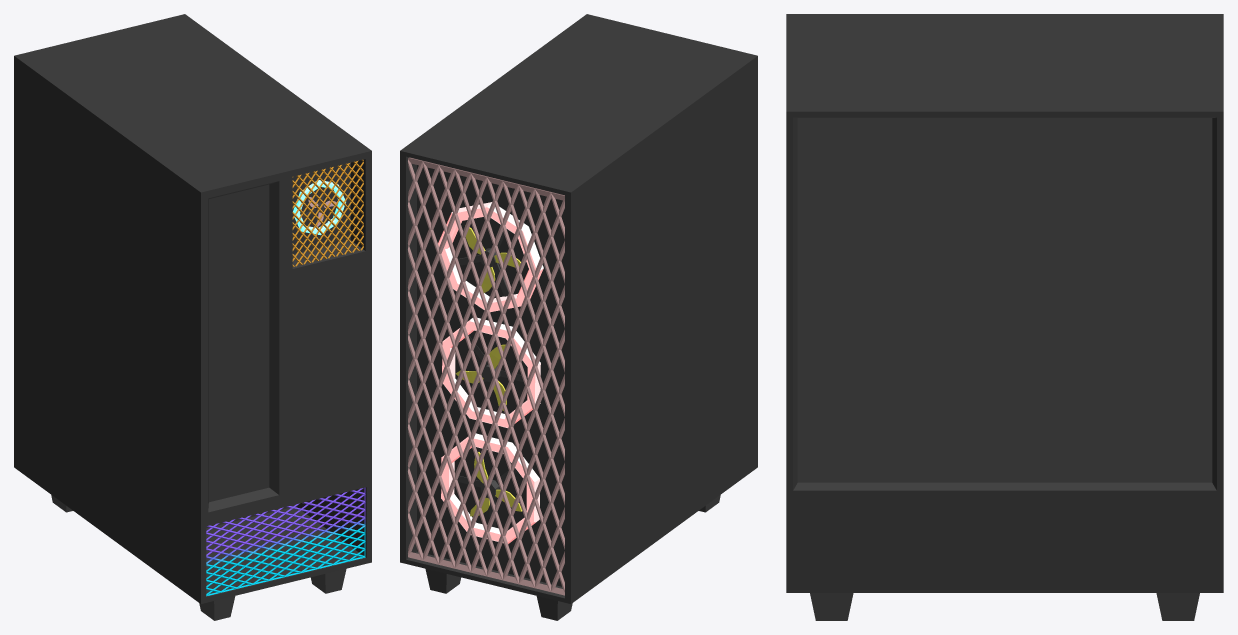
File: CPU 1.fbx
3 renders of one model, left to right at view 1: azimuth 30°, elevation 25°; view 2: azimuth 150°, elevation 25°; view 3: azimuth 270°, elevation 25°, orthographic. The views are drawn at different scales.
Parts seen in each view (by area): view 1: CPU; view 2: CPU; view 3: CPU.
Part boxes in pixels (x1,y1,x2,y2): CPU: [14, 14, 371, 620]; CPU: [400, 14, 757, 620]; CPU: [786, 14, 1223, 620].
Size of the model in its own units: 20 by 49.62 by 37.86.
